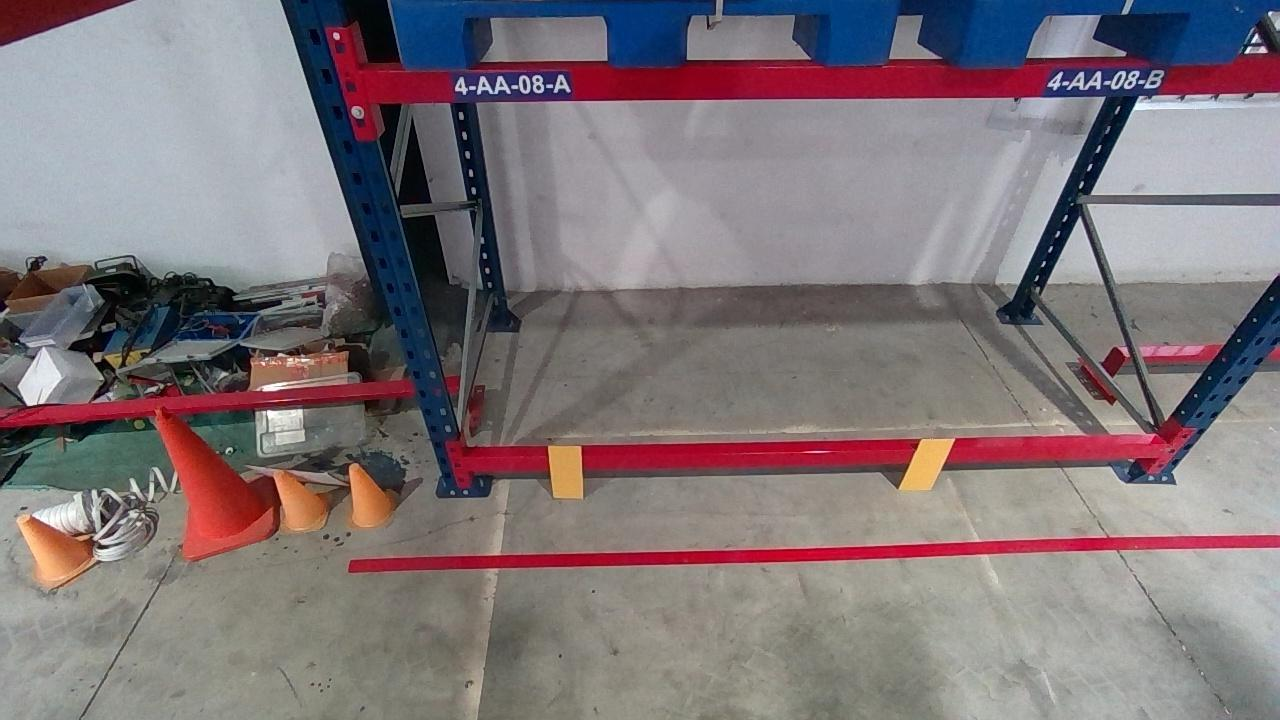h_rack: (366, 62, 1279, 101), (468, 442, 1165, 473)
orange_strip: (897, 438, 959, 490), (547, 446, 584, 498)
red_line: (342, 534, 1277, 572)
small_pallet: (393, 0, 891, 65), (965, 2, 1280, 62)
